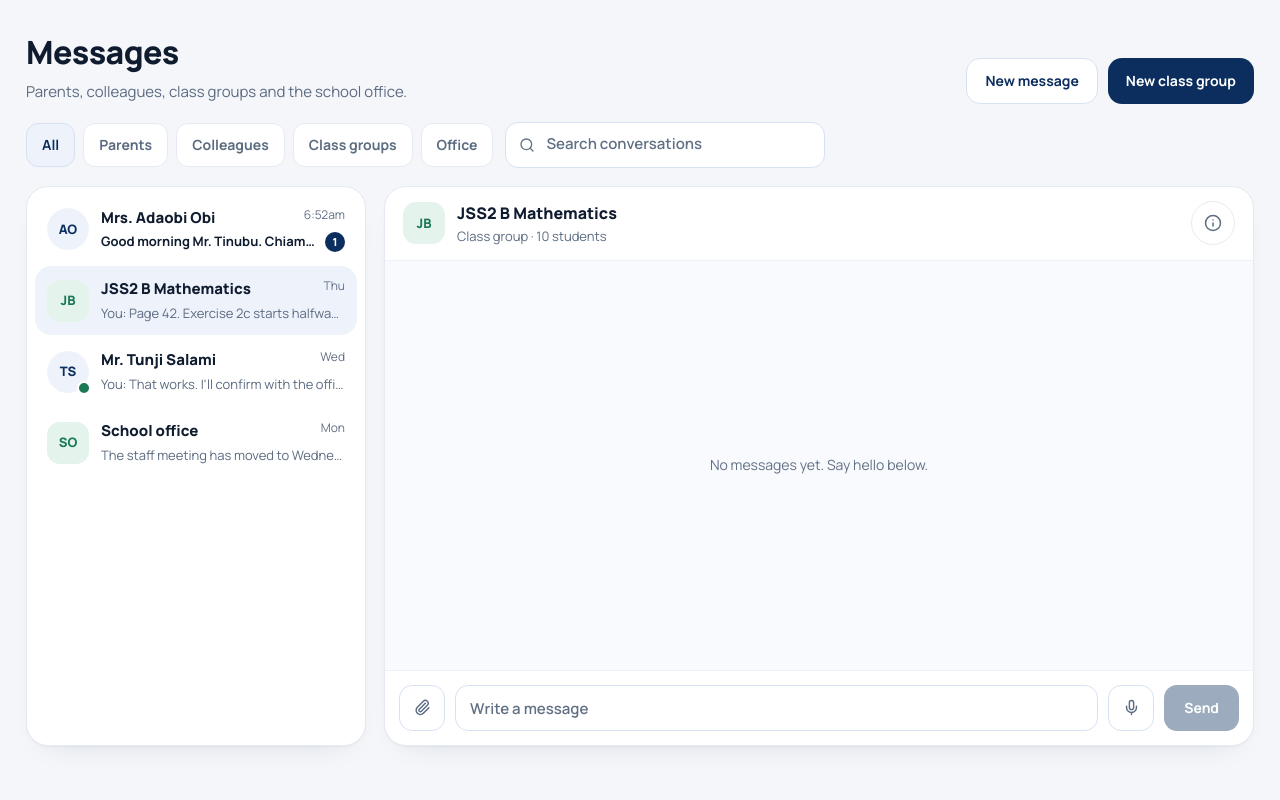
Test case: the info modal › loads more media while the server has a next page
The width and height of the screenshot is (1280, 800).
Click the button named "Conversation info" at (1213, 223), box [1191,201,1235,245]
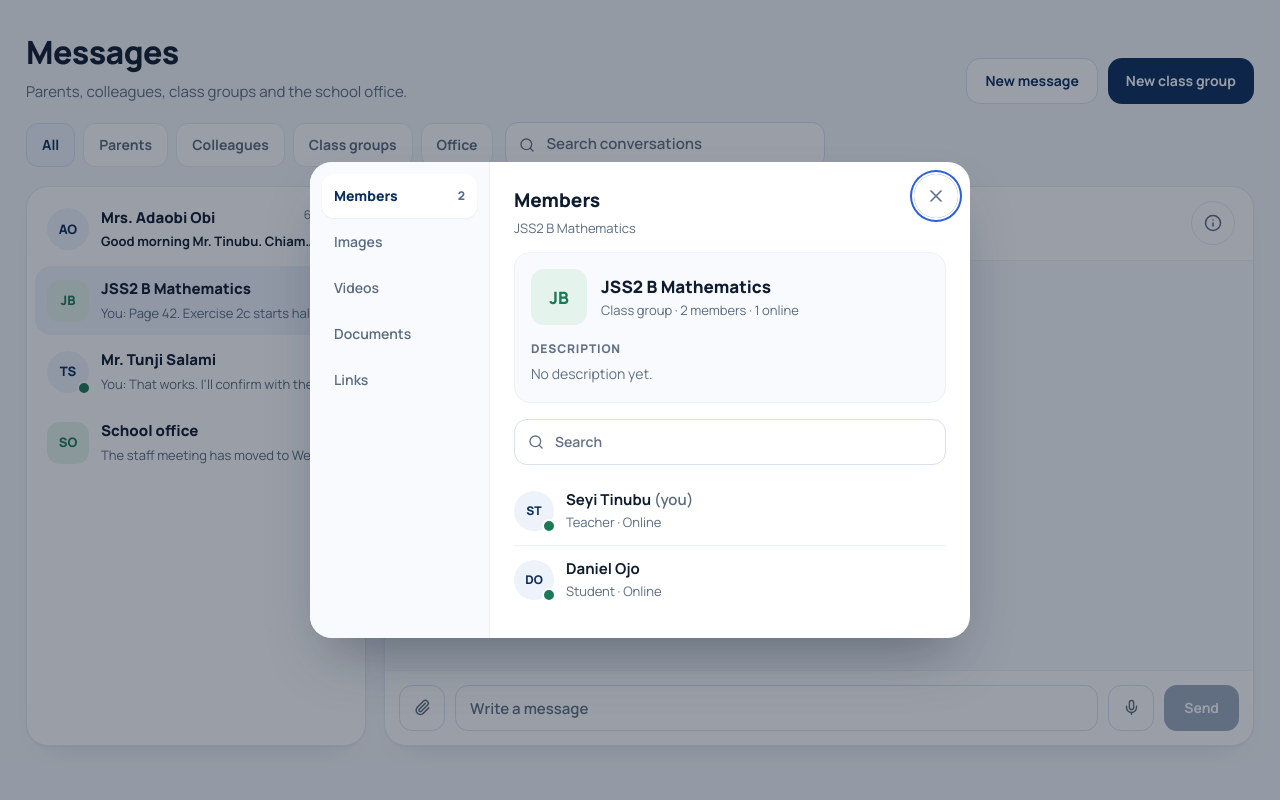
Click the tab "Documents" at (400, 334), box [322,312,477,356]
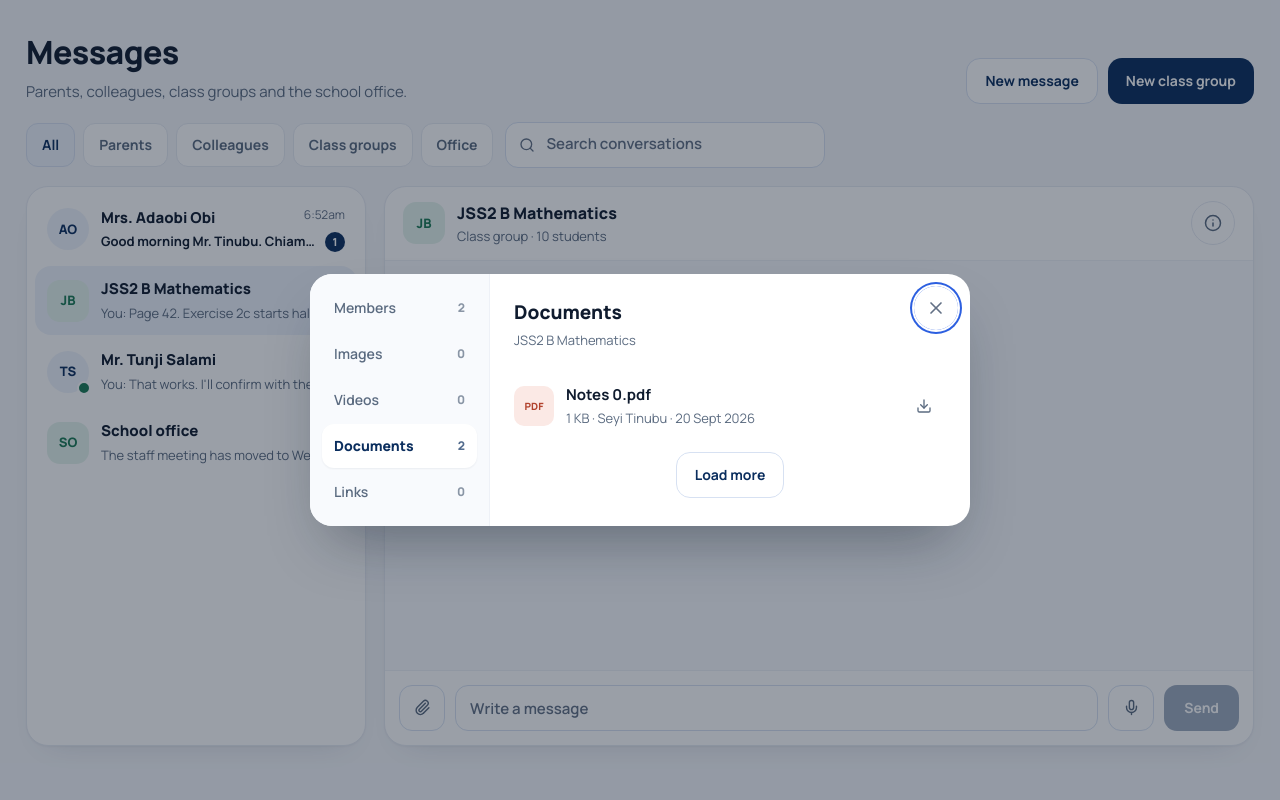
Now the text "Notes 0.pdf" is shown, box [566,384,651,405]
Click the button "Load more" at (730, 475), box [676,452,784,498]
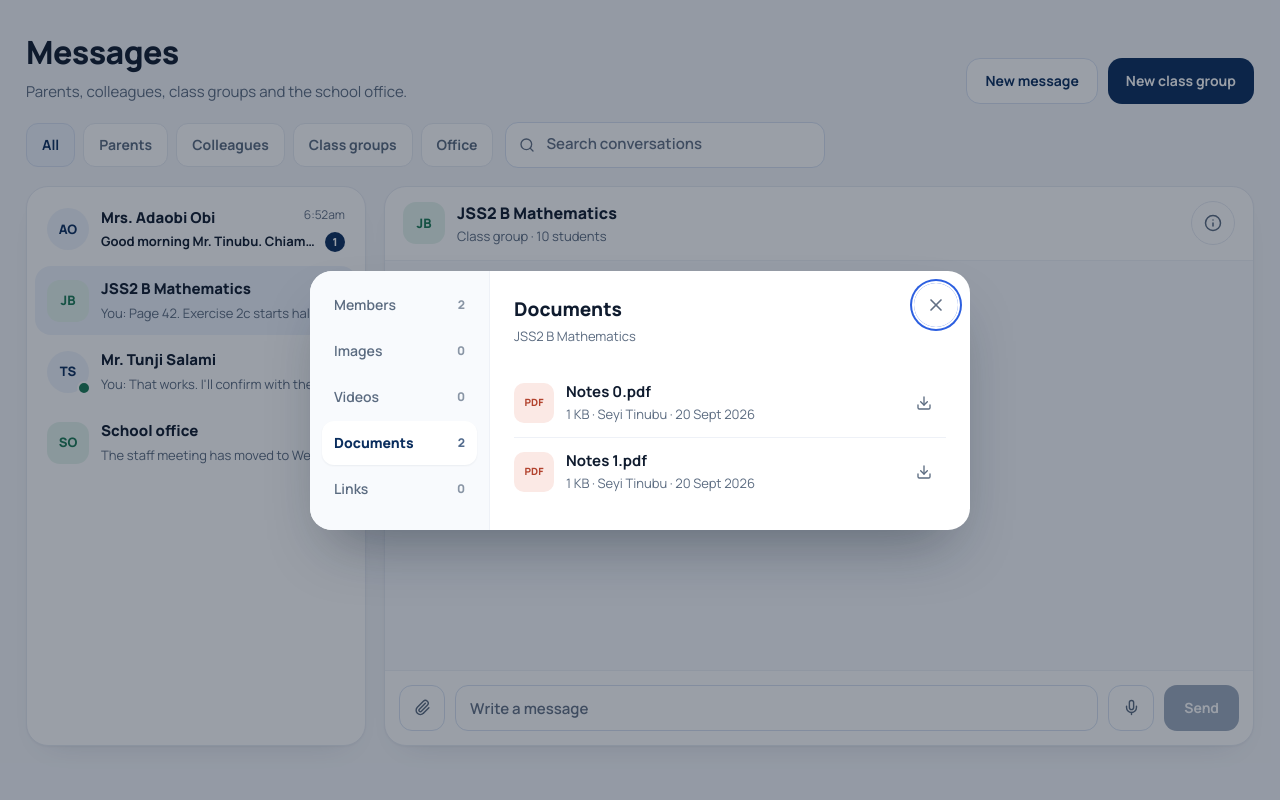
Now the text "Notes 1.pdf" is shown, box [566,450,647,470]
Now the button "Load more" is gone
